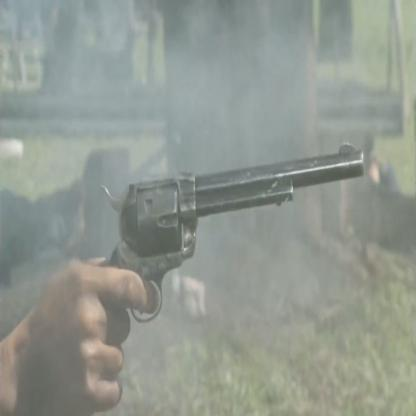gun: (92, 104, 375, 310)
